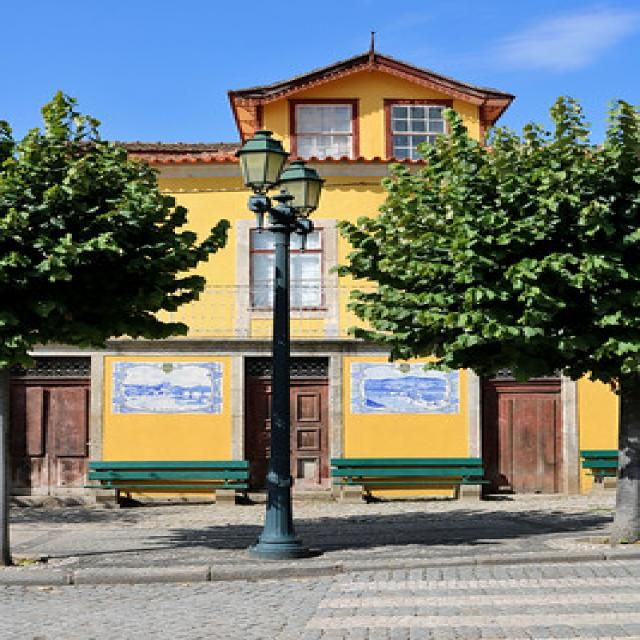Normal_building: (12, 50, 587, 508)
